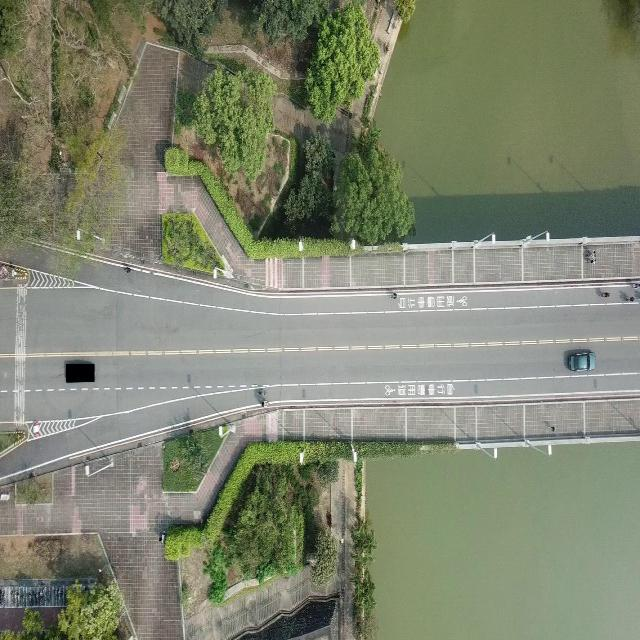car: (566, 348, 594, 372)
